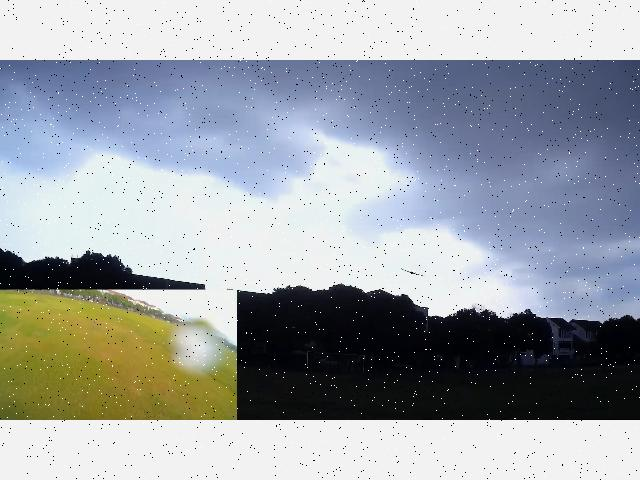Anti-Drone: (400, 268, 426, 276)
